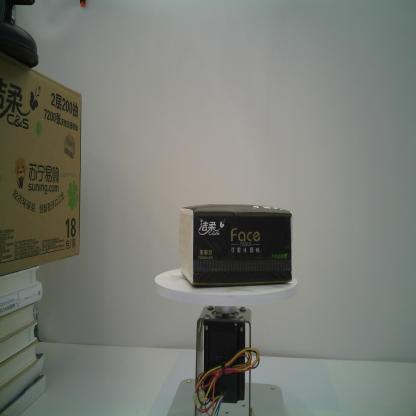Tissue: (178, 203, 292, 288)
